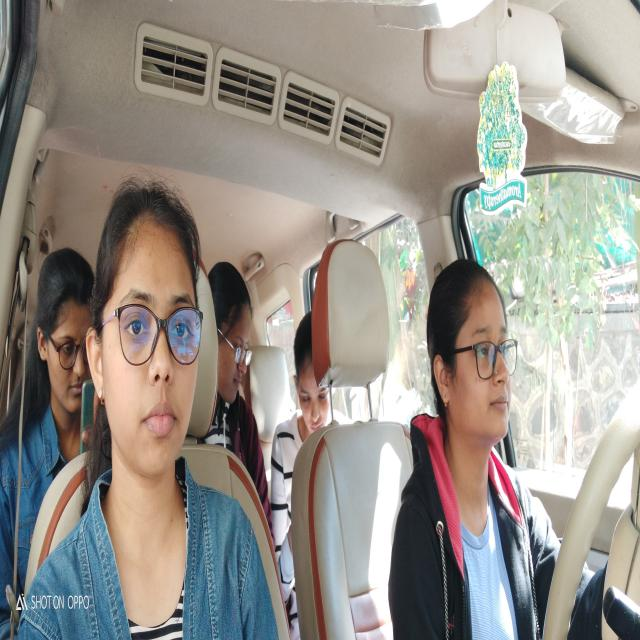person: (85, 172, 203, 478), (422, 255, 519, 472), (34, 243, 90, 416), (210, 254, 258, 415), (292, 309, 334, 441)
